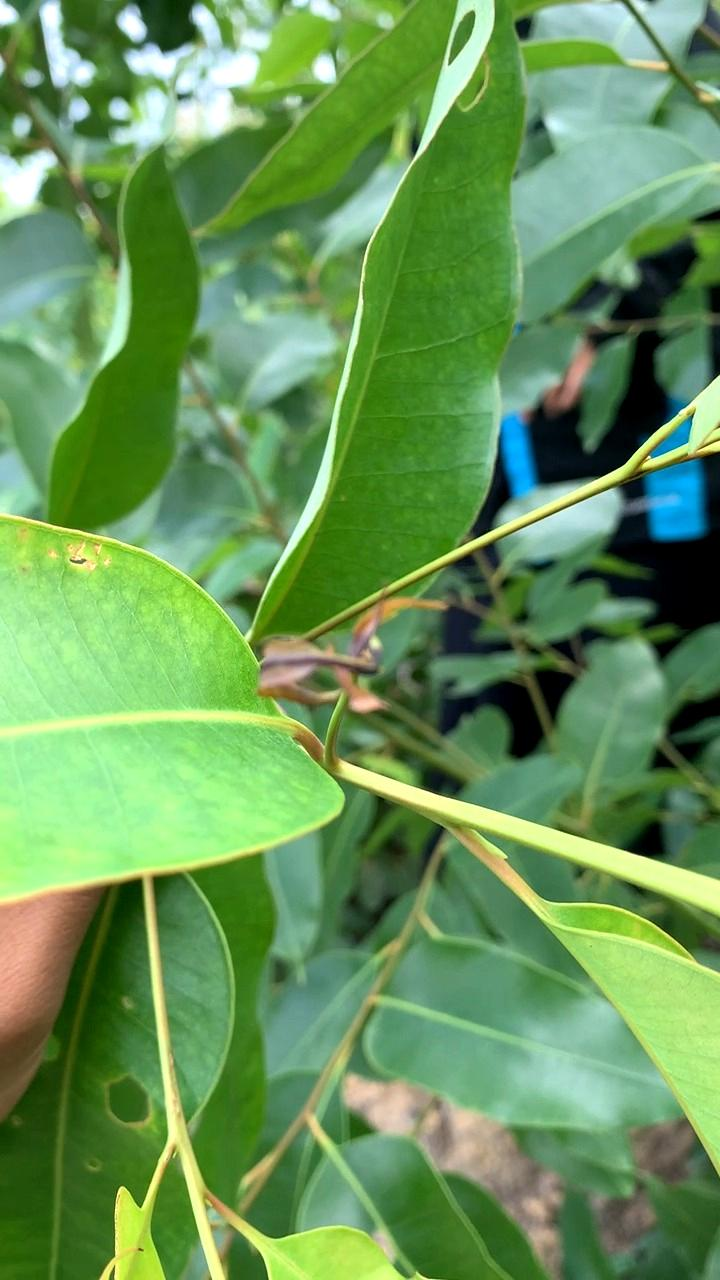Helopeltis-Withered Sprout: (228, 588, 457, 749)
